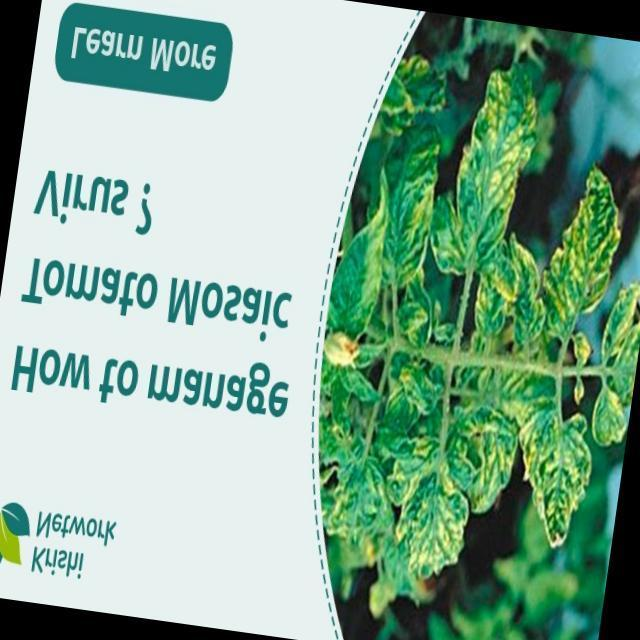Mosaic Virus: (450, 74, 542, 265), (546, 169, 626, 326), (376, 118, 446, 296), (392, 480, 463, 580), (539, 415, 588, 549), (468, 413, 526, 520), (596, 275, 640, 377), (590, 375, 631, 455)
